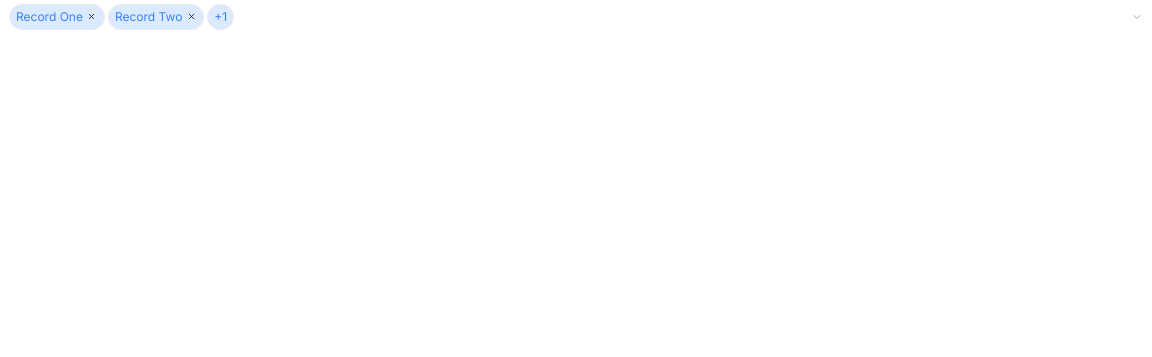
Scenario: LinksField › opens dropdown from the +count pill when more than two records are selected
Click the button "+1" at (221, 16), box x1=207 y1=4 x2=234 y2=30
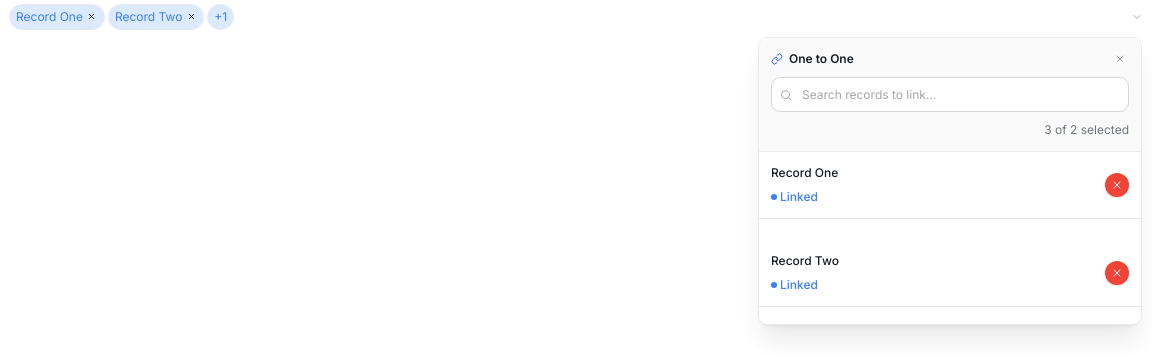
Result: the text "One to One" is shown at x1=789 y1=50 x2=854 y2=68
